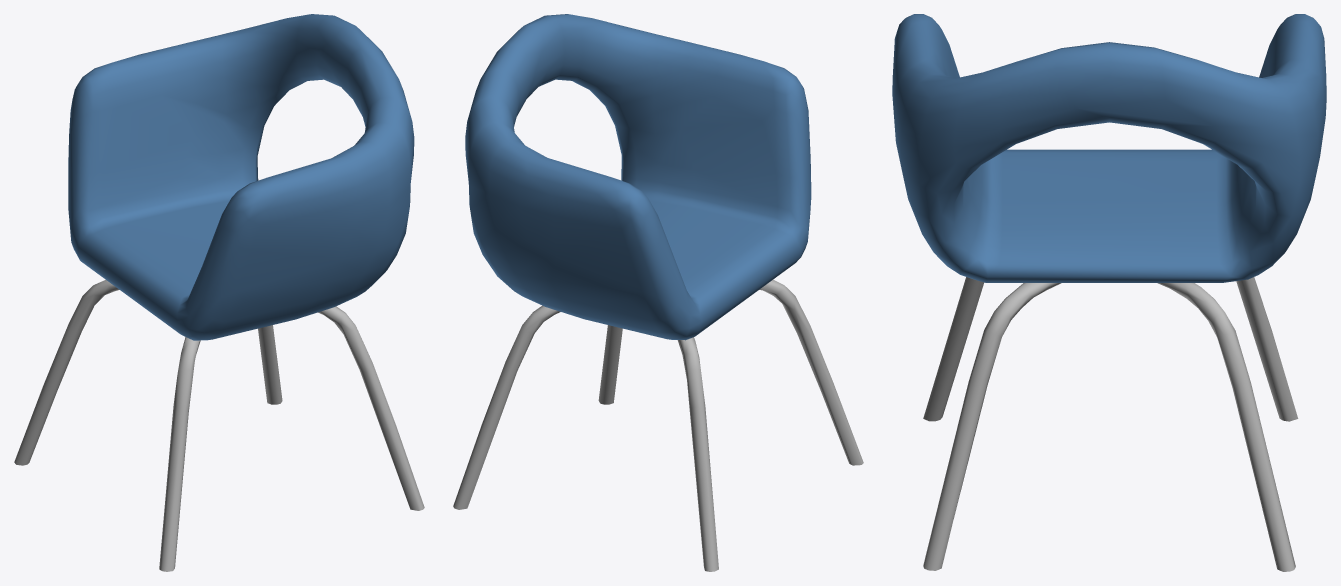
File: chair_05_blue.fbx
3 renders of one model, left to right at view 1: azimuth 30°, elevation 25°; view 2: azimuth 150°, elevation 25°; view 3: azimuth 270°, elevation 25°, orthographic. The views are drawn at different scales.
Parts seen in each view (by area): view 1: chair_05_blue; view 2: chair_05_blue; view 3: chair_05_blue.
Boxes of the visible parts, bbox=[...] form: chair_05_blue: bbox=[14, 14, 424, 571]; chair_05_blue: bbox=[453, 14, 863, 571]; chair_05_blue: bbox=[892, 14, 1326, 571].
Size of the model in its own units: 55.24 by 81.65 by 61.21.
Materials: 2 (2 with a texture image).
